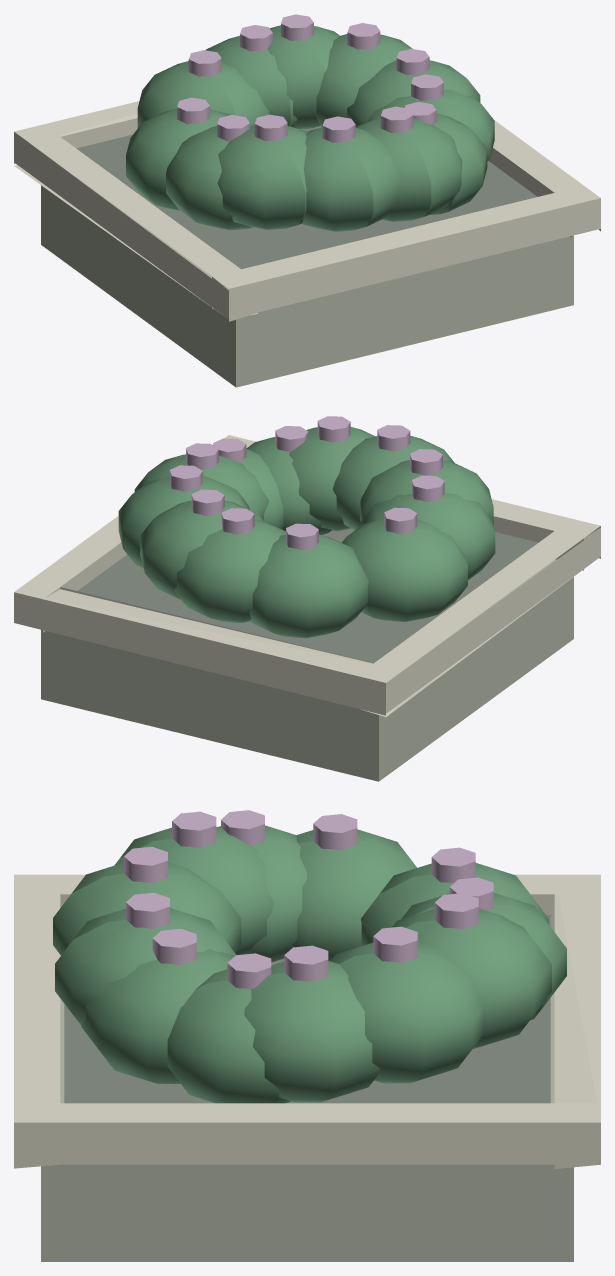
File: civic_planter.glb
3 views of the same model, one above another, from view 1: azimuth 30°, elevation 25°; view 2: azimuth 150°, elevation 25°; view 3: azimuth 270°, elevation 25° (orthographic). The views are drawn at different scales.
Parts seen in each view (by area): view 1: SourceMesh_00000, SourceMesh_00004, SourceMesh_00001, SourceMesh_00005, SourceMesh_00018, SourceMesh_00008, SourceMesh_00028, SourceMesh_00020, SourceMesh_00024, SourceMesh_00003, SourceMesh_00014, SourceMesh_00016 (+18 smaller); view 2: SourceMesh_00000, SourceMesh_00002, SourceMesh_00001, SourceMesh_00020, SourceMesh_00014, SourceMesh_00005, SourceMesh_00010, SourceMesh_00003, SourceMesh_00026, SourceMesh_00024, SourceMesh_00028, SourceMesh_00018 (+18 smaller); view 3: SourceMesh_00000, SourceMesh_00003, SourceMesh_00005, SourceMesh_00016, SourceMesh_00006, SourceMesh_00002, SourceMesh_00004, SourceMesh_00012, SourceMesh_00026, SourceMesh_00022, SourceMesh_00014, SourceMesh_00028 (+18 smaller).
Boxes of the visible parts, x1,y1,x2,y2 form: SourceMesh_00000: [41, 165, 573, 387]; SourceMesh_00004: [212, 185, 600, 319]; SourceMesh_00001: [14, 125, 258, 321]; SourceMesh_00005: [76, 126, 537, 269]; SourceMesh_00018: [301, 127, 401, 231]; SourceMesh_00008: [217, 125, 307, 229]; SourceMesh_00028: [355, 117, 462, 221]; SourceMesh_00020: [137, 61, 268, 128]; SourceMesh_00024: [166, 126, 252, 230]; SourceMesh_00003: [488, 120, 600, 237]; SourceMesh_00014: [126, 108, 230, 210]; SourceMesh_00016: [315, 34, 412, 127]; SourceMesh_00000: [41, 559, 573, 781]; SourceMesh_00002: [14, 587, 402, 715]; SourceMesh_00001: [356, 518, 600, 716]; SourceMesh_00020: [249, 534, 368, 638]; SourceMesh_00014: [342, 519, 467, 621]; SourceMesh_00005: [77, 528, 538, 663]; SourceMesh_00010: [174, 519, 285, 622]; SourceMesh_00003: [14, 435, 256, 632]; SourceMesh_00026: [140, 500, 263, 599]; SourceMesh_00024: [360, 493, 495, 579]; SourceMesh_00028: [289, 427, 374, 531]; SourceMesh_00018: [332, 435, 454, 529]; SourceMesh_00000: [41, 955, 573, 1261]; SourceMesh_00003: [14, 1103, 600, 1164]; SourceMesh_00005: [64, 915, 550, 1103]; SourceMesh_00016: [330, 942, 484, 1083]; SourceMesh_00006: [244, 961, 380, 1102]; SourceMesh_00002: [554, 874, 600, 1168]; SourceMesh_00004: [14, 874, 60, 1168]; SourceMesh_00012: [81, 949, 234, 1083]; SourceMesh_00026: [392, 908, 551, 1049]; SourceMesh_00022: [167, 969, 290, 1103]; SourceMesh_00014: [292, 829, 416, 961]; SourceMesh_00028: [55, 908, 236, 1025].
Size of the model in its own units: 1.52 by 0.7897 by 1.52.
